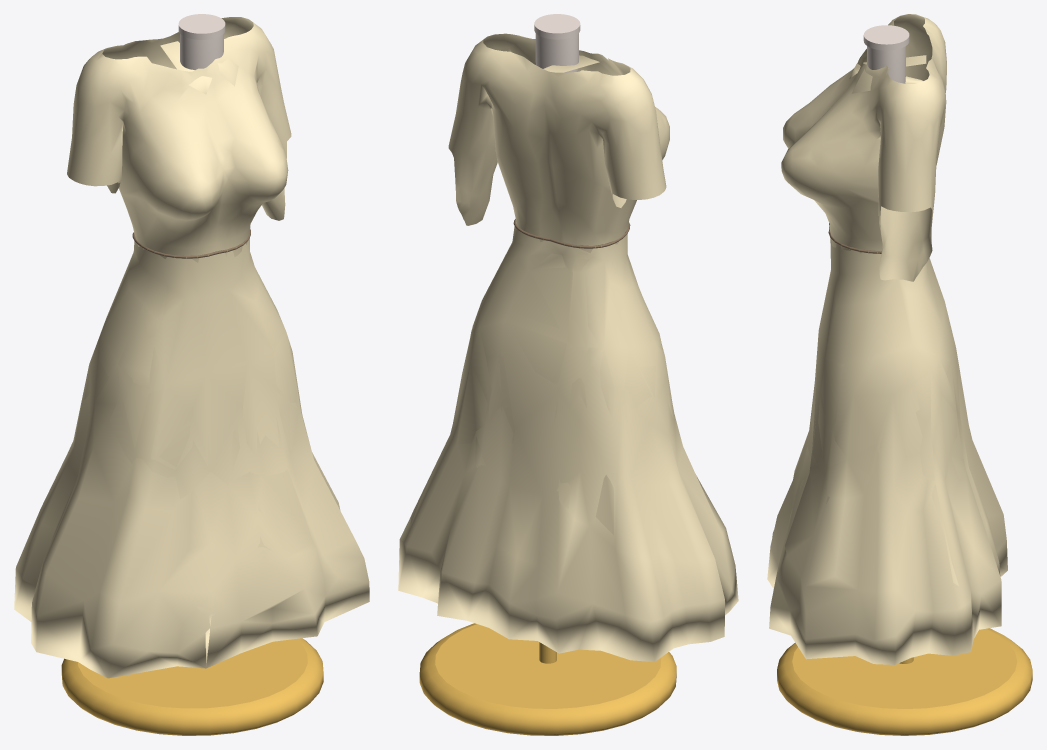
Rendered from rain.dress.ivory-midi.glb.
3 renders of one model, left to right at view 1: azimuth 30°, elevation 25°; view 2: azimuth 150°, elevation 25°; view 3: azimuth 270°, elevation 25°, orthographic. The views are drawn at different scales.
Parts seen in each view (by area): view 1: Tailored.Dress.ivory-midi.Fabric, Tailored.Dress.ivory-midi.Blouse, stand_base, stand_torso, stand_neck_cap, Tailored.Dress.ivory-midi.FoldedCollar; view 2: Tailored.Dress.ivory-midi.Fabric, Tailored.Dress.ivory-midi.Blouse, stand_base, stand_torso, stand_neck_cap; view 3: Tailored.Dress.ivory-midi.Fabric, Tailored.Dress.ivory-midi.Blouse, stand_base, stand_neck_cap, stand_torso, Tailored.Dress.ivory-midi.FoldedCollar.
Part boxes in pixels (<box>): Tailored.Dress.ivory-midi.Fabric: <box>14,238,369,678</box>; Tailored.Dress.ivory-midi.Blouse: <box>67,17,291,262</box>; stand_base: <box>61,638,323,735</box>; stand_torso: <box>180,34,223,69</box>; stand_neck_cap: <box>178,14,225,39</box>; Tailored.Dress.ivory-midi.FoldedCollar: <box>160,41,238,94</box>; Tailored.Dress.ivory-midi.Fabric: <box>398,226,738,661</box>; Tailored.Dress.ivory-midi.Blouse: <box>448,33,669,253</box>; stand_base: <box>419,623,676,735</box>; stand_torso: <box>535,33,578,72</box>; stand_neck_cap: <box>534,14,580,39</box>; Tailored.Dress.ivory-midi.Fabric: <box>767,238,1007,664</box>; Tailored.Dress.ivory-midi.Blouse: <box>781,14,946,281</box>; stand_base: <box>777,628,1032,735</box>; stand_neck_cap: <box>863,25,909,50</box>; stand_torso: <box>867,46,905,83</box>; Tailored.Dress.ivory-midi.FoldedCollar: <box>849,55,926,93</box>.
Bounding box in the file's own units: 0.3648 × 0.75 × 0.2765.
